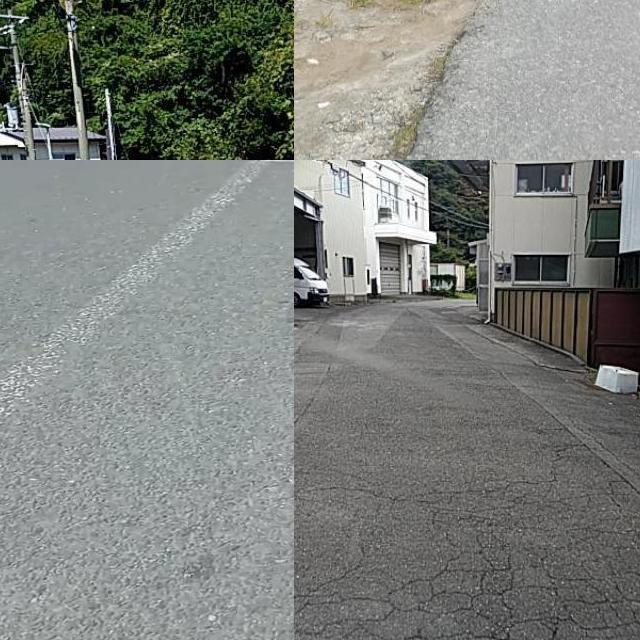Pinggir: (350, 0, 532, 160)
Retak Buaya: (359, 466, 640, 640)
